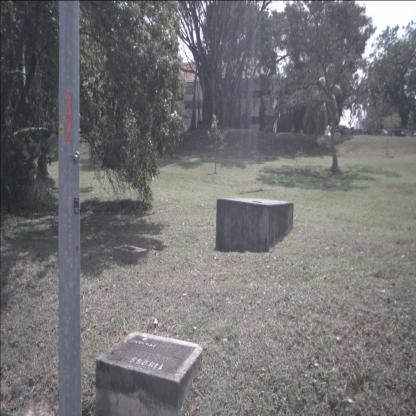vehicle-car: (343, 126, 365, 138), (331, 124, 351, 137), (374, 128, 394, 140), (392, 128, 411, 139)
